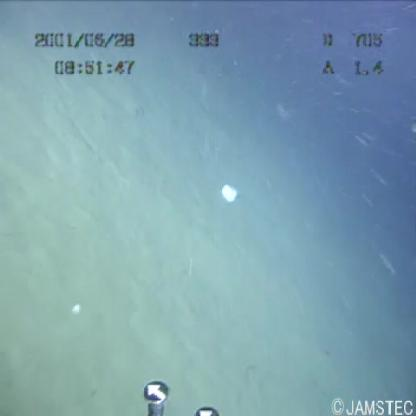Rov: (130, 381, 221, 416)
Rác: (209, 169, 242, 209)
